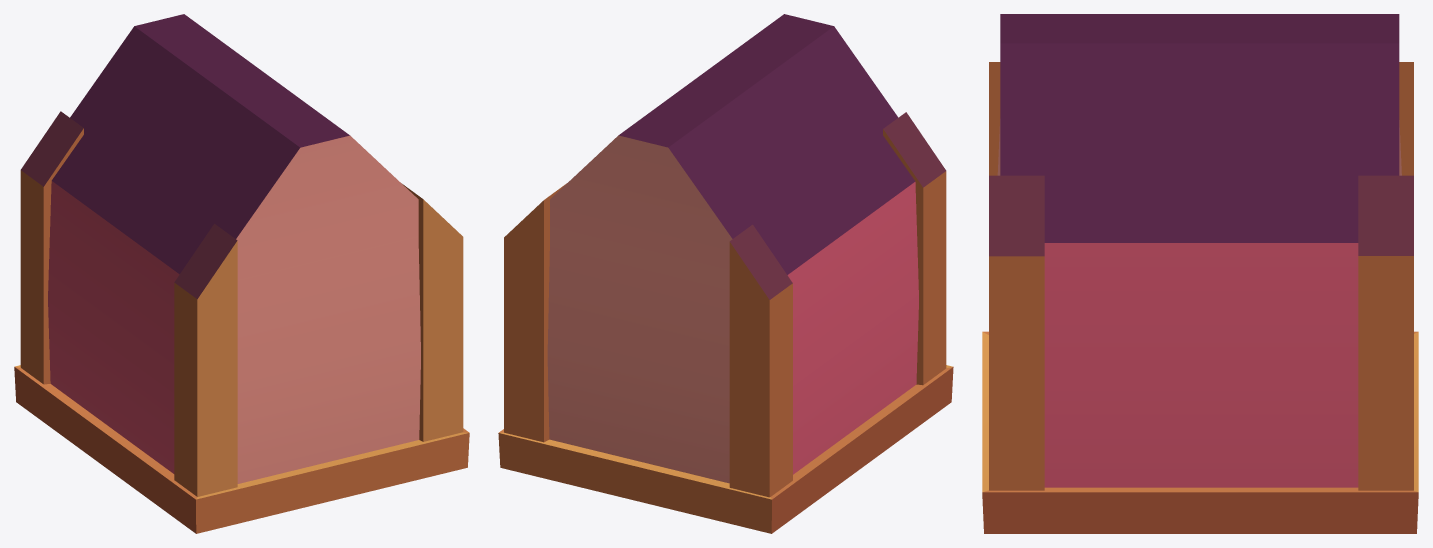
The model's file is House02_Pink_Wood.glb.
The picture shows the model from 3 angles, left to right: view 1: azimuth 30°, elevation 25°; view 2: azimuth 150°, elevation 25°; view 3: azimuth 270°, elevation 25°; orthographic projection. The views are drawn at different scales.
Parts seen in each view (by area): view 1: House02_Pink_Wood; view 2: House02_Pink_Wood; view 3: House02_Pink_Wood.
Part boxes in pixels (left/top/right/bottom): House02_Pink_Wood: left=14, top=14, right=469, bottom=533; House02_Pink_Wood: left=498, top=14, right=953, bottom=533; House02_Pink_Wood: left=982, top=14, right=1418, bottom=533.
Bounding box in the file's own units: 2.04 × 2.52 × 2.34.
Materials: 1 (1 with a texture image).
